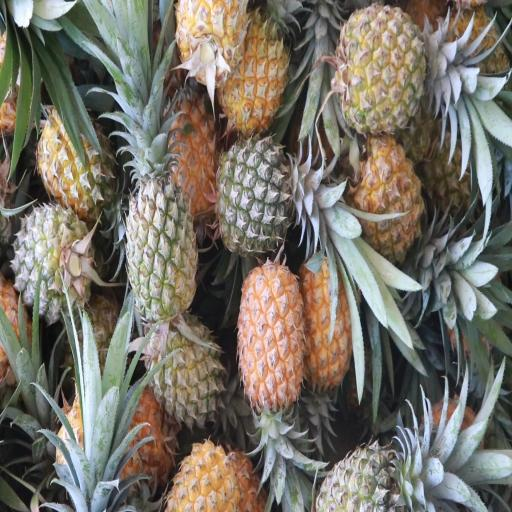------------------------------: (127, 149, 195, 313), (338, 9, 430, 128), (149, 318, 224, 422), (37, 103, 110, 208)
Pineapple - v8 v1: (238, 260, 308, 406), (218, 11, 292, 126), (352, 139, 422, 253), (161, 86, 223, 212), (303, 256, 359, 387), (171, 438, 244, 512), (176, 0, 248, 75)
